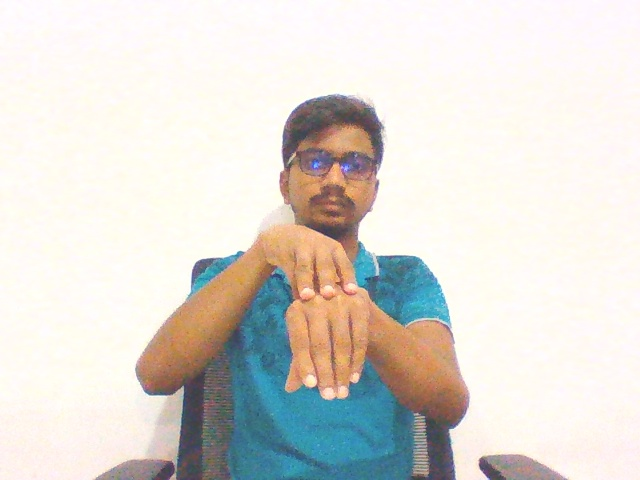papaya: (245, 203, 381, 421)
